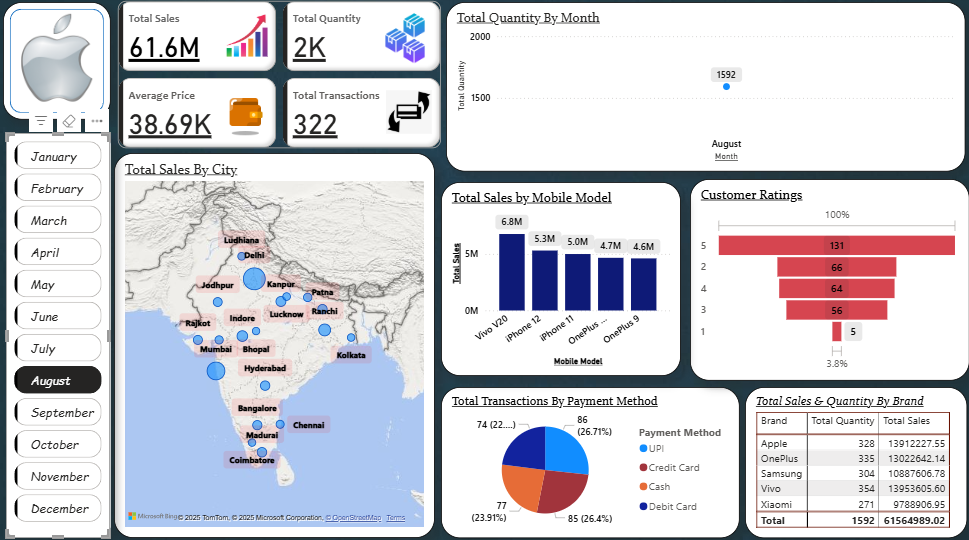

This screenshot's page, from the dashboard's own definition file:
{"tool":"powerbi","page":{"name":"Mobile Sales Dashboard","canvas":[1280,720],"ordinal":0},"visuals":[{"type":"shape","box":[7.3,7.3,141.1,154.3],"z":0},{"type":"advancedSlicerVisual","fields":{"Values":["Sales_Data.Date.Variation.Date Hierarchy.Month"]},"box":[11.8,179.3,136.7,530.4],"z":2000},{"type":"cardVisual","fields":{"Data":["Sales_Data.Total_Sales","Sales_Data.Total Quantity","Sales_Data.Average Price Per Unit","Sales_Data.Total Transactions"]},"box":[152.8,1.5,434.9,204.2],"z":3000},{"type":"map","title":"Total Sales By City","fields":{"Category":["Sales_Data.City"],"Size":["Sales_Data.Total Sales"]},"box":[152.8,205.7,420.2,504],"z":4000},{"type":"lineChart","title":"Total Quantity By Month","fields":{"Y":["Sales_Data.Total Quantity"],"Category":["Sales_Data.Date.Variation.Date Hierarchy.Month","Sales_Data.Date.Variation.Date Hierarchy.Day"]},"box":[587.8,7.3,680.3,221.9],"z":5000},{"type":"pieChart","title":"Total Transactions By Payment Method","fields":{"Category":["Sales_Data.Payment Method"],"Y":["Sales_Data.Total Transactions"]},"box":[581.9,511.3,390.9,198.4],"z":6000},{"type":"funnel","title":"Customer Ratings","fields":{"Category":["Sales_Data.Customer Ratings"],"Y":["CountNonNull(Sales_Data.Customer Ratings)"]},"box":[906.6,239.5,365.9,264.5],"z":7000},{"type":"clusteredColumnChart","fields":{"Category":["Sales_Data.Mobile Model"],"Y":["Sales_Data.Total Sales"]},"box":[581.9,243.9,314.4,254.2],"z":8000},{"type":"tableEx","title":"Total Sales & Quantity By Brand","fields":{"Values":["Sales_Data.Brand","Sales_Data.Total Quantity","Sales_Data.Total Sales"]},"box":[978.6,511.3,290.9,198.4],"z":9000},{"type":"image","box":[15.1,17.9,125.2,125.2],"z":10000}]}

Visuals, with their boxes in screenshot pixels (x1, y1, x2, y2):
shape: [x1=0, y1=0, x2=106, y2=116]
advancedSlicerVisual - Sales_Data.Date.Variation.Date Hierarchy.Month: [x1=1, y1=130, x2=106, y2=537]
cardVisual - Sales_Data.Total_Sales x Sales_Data.Total Quantity: [x1=110, y1=0, x2=443, y2=150]
"Total Sales By City" map: [x1=110, y1=150, x2=432, y2=537]
"Total Quantity By Month" lineChart: [x1=443, y1=0, x2=965, y2=168]
"Total Transactions By Payment Method" pieChart: [x1=439, y1=385, x2=738, y2=537]
"Customer Ratings" funnel: [x1=688, y1=176, x2=968, y2=379]
clusteredColumnChart - Sales_Data.Mobile Model x Sales_Data.Total Sales: [x1=439, y1=179, x2=680, y2=374]
"Total Sales & Quantity By Brand" tableEx: [x1=743, y1=385, x2=966, y2=537]
image: [x1=4, y1=6, x2=100, y2=102]
